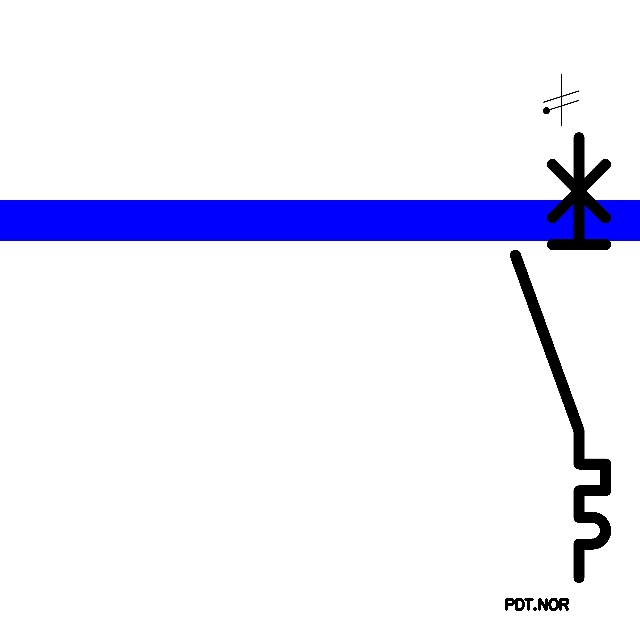interruptor_termomagnetico: (504, 126, 617, 589)
